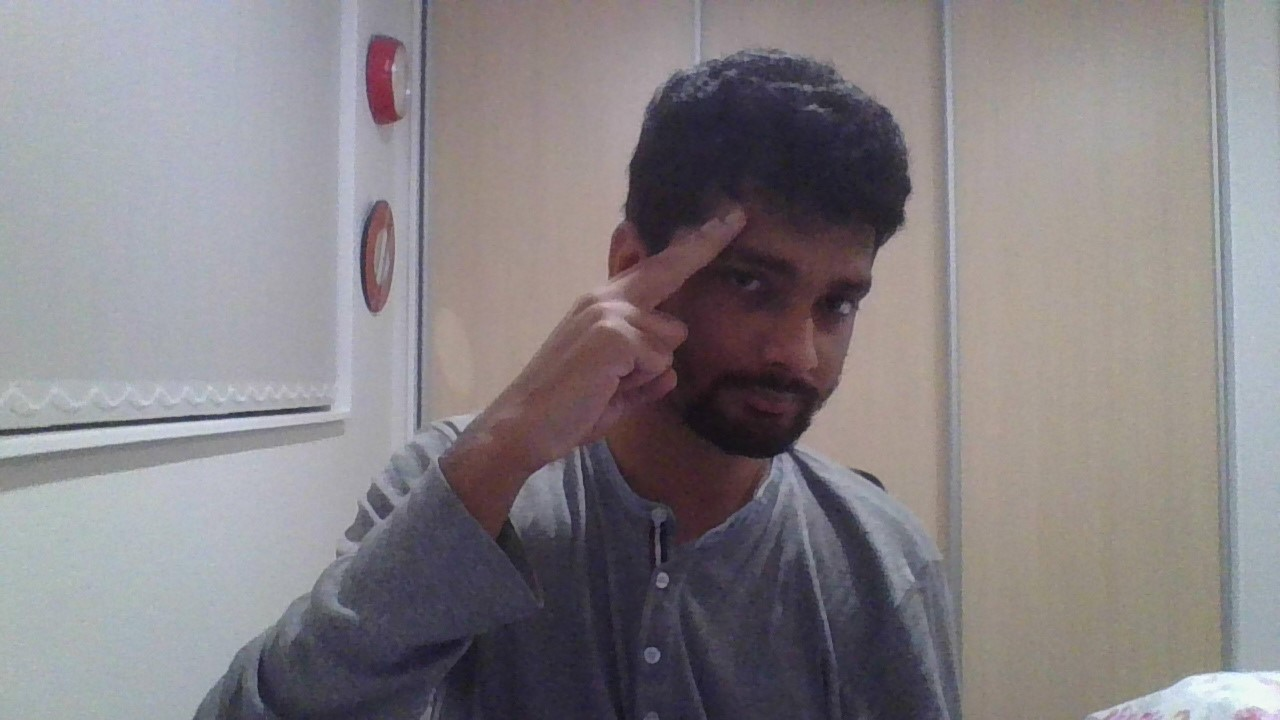peace: (486, 209, 747, 462)
